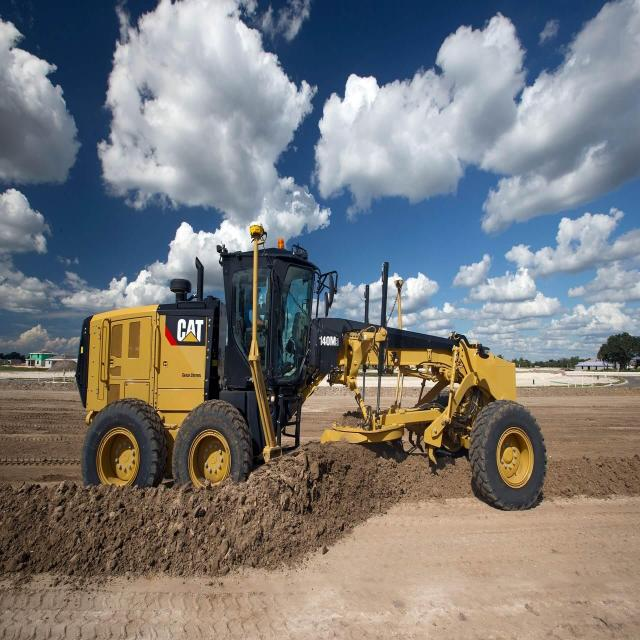Grader: (71, 236, 551, 516)
